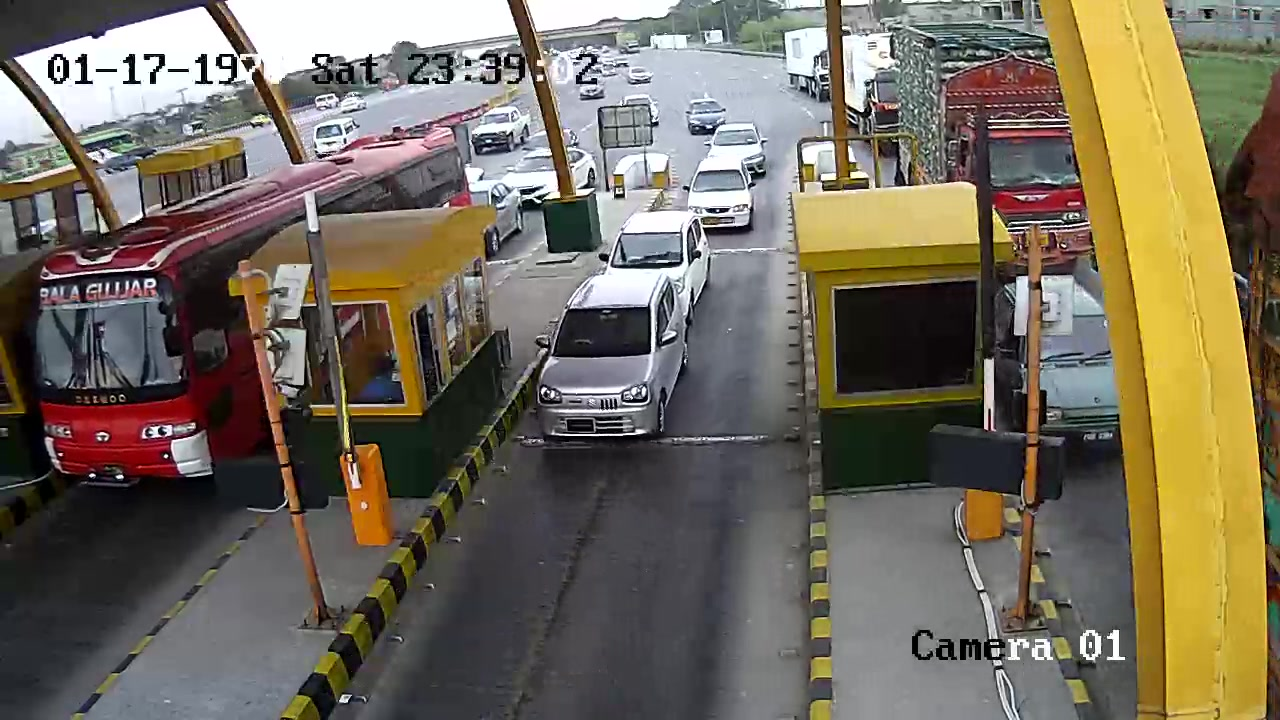F1: (522, 262, 693, 457)
